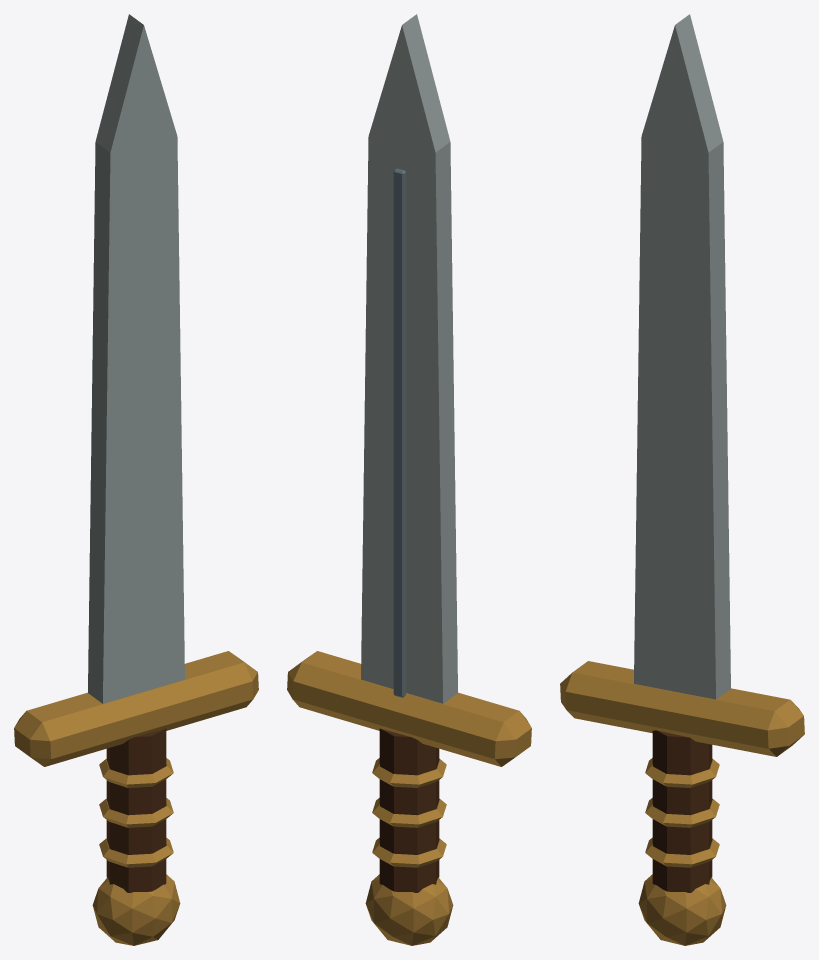
File: Sword.glb
The picture shows the model from 3 angles, left to right: view 1: azimuth 30°, elevation 25°; view 2: azimuth 150°, elevation 25°; view 3: azimuth 330°, elevation 25°; orthographic projection.
Parts seen in each view (by area): view 1: Sculpture; view 2: Sculpture; view 3: Sculpture.
Part boxes in pixels (left/top/right/bottom): Sculpture: left=14, top=14, right=258, bottom=945; Sculpture: left=287, top=14, right=531, bottom=945; Sculpture: left=560, top=14, right=804, bottom=945.
Size of the model in its own units: 0.3008 by 1.16 by 0.088.
